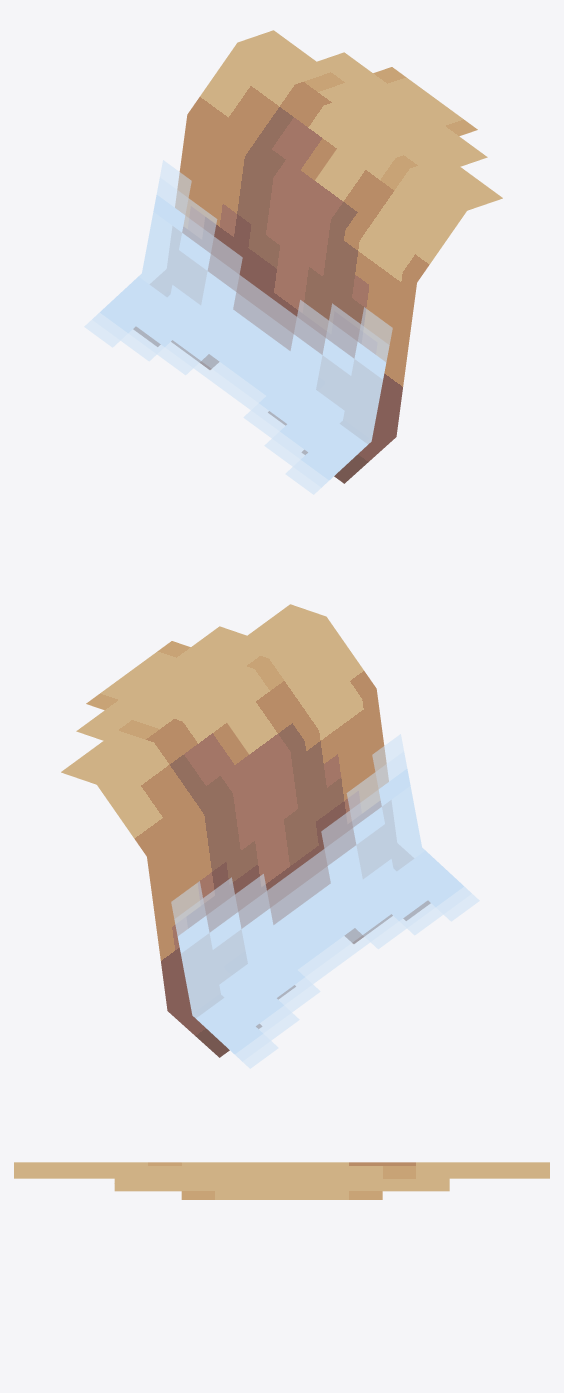
The picture shows the model from 3 angles, top to bottom: view 1: azimuth 30°, elevation 25°; view 2: azimuth 150°, elevation 25°; view 3: azimuth 270°, elevation 25°; orthographic projection. The views are drawn at different scales.
Bounding box in the file's own units: 0.7695 × 0.7266 × 1.
2 materials, 2 textured.
